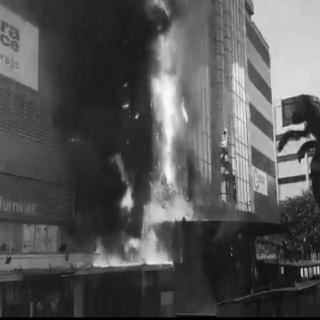Fire: (143, 4, 197, 276), (82, 222, 144, 268), (111, 139, 138, 215)
Smoke: (67, 143, 105, 215)
